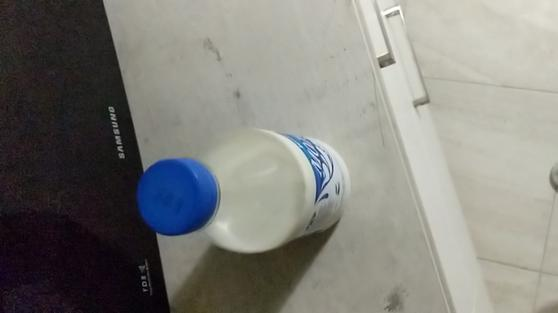milk: (129, 125, 357, 256)
